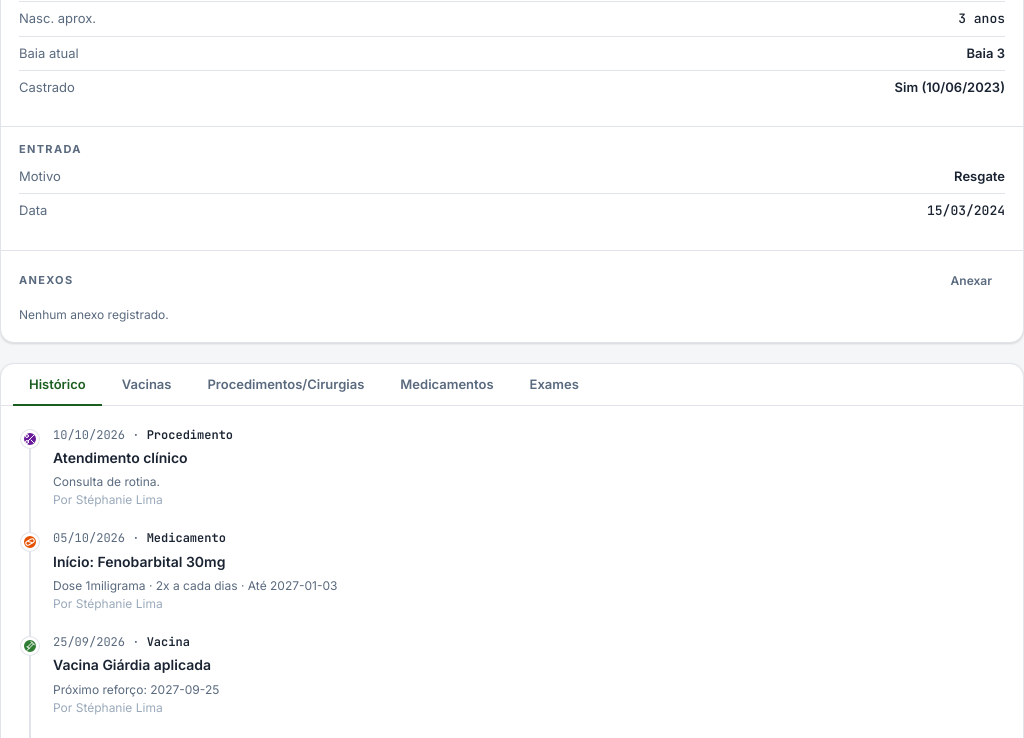
FichaAnimal › destaca vacina vencida, a vencer e em dia com o badge correto
(page scrolled)
Click the tab "Vacinas" at (147, 385), box left=106, top=364, right=188, bottom=406
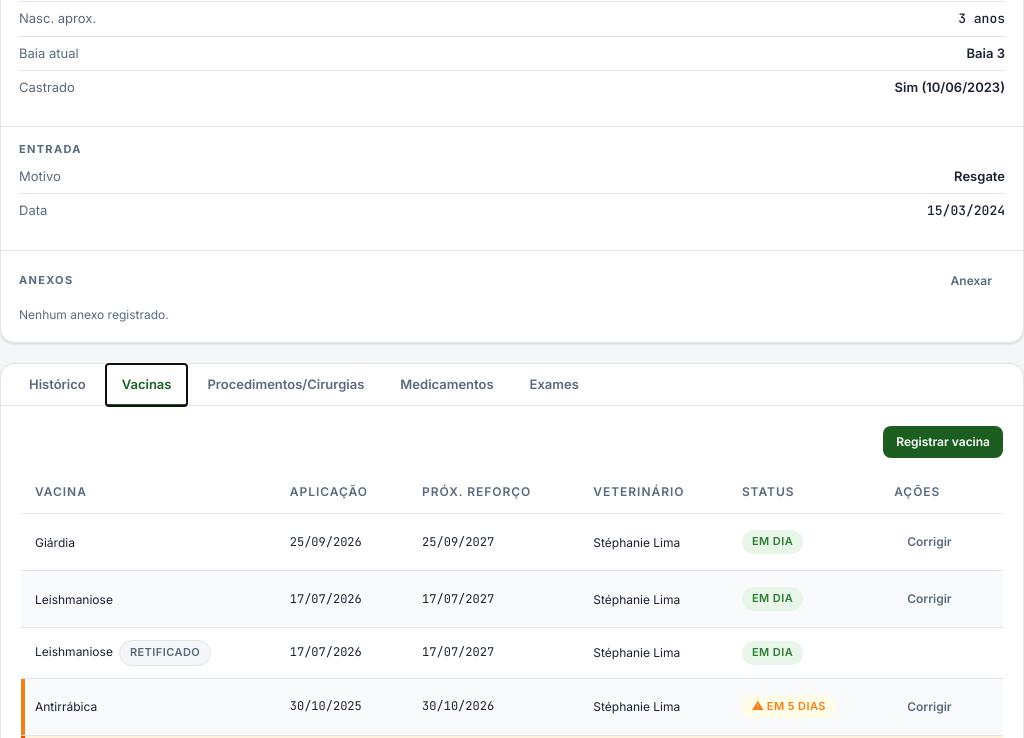
expect the text "⚠ Em 5 dias" is shown: met, box left=742, top=695, right=836, bottom=718
expect the text "Em dia" in the row of "Giárdia" is shown: met, box left=752, top=534, right=793, bottom=548
